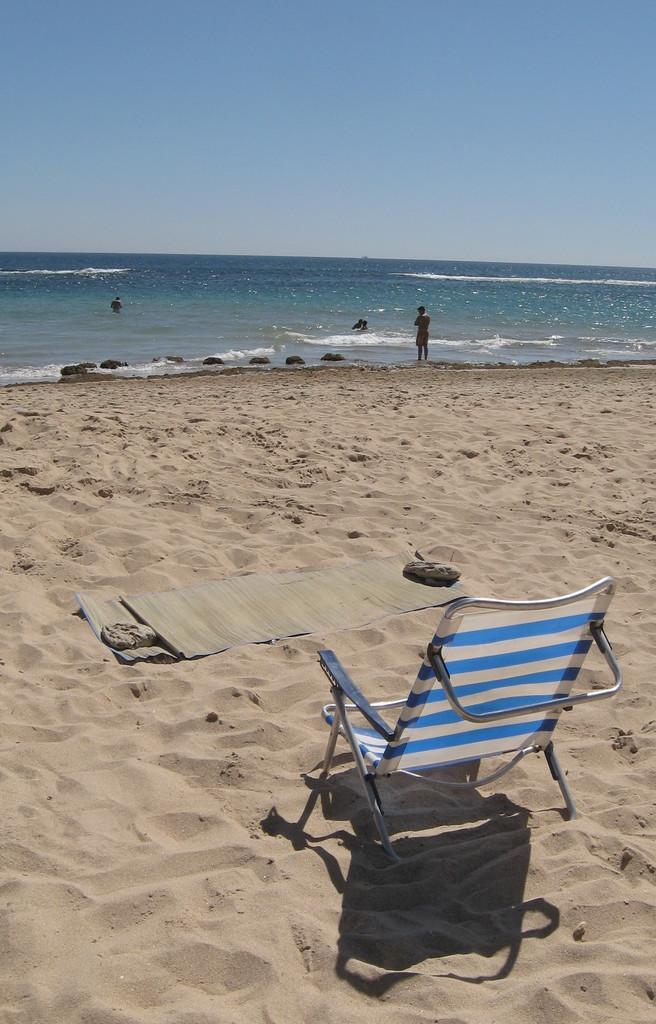Chair: (301, 581, 623, 875)
